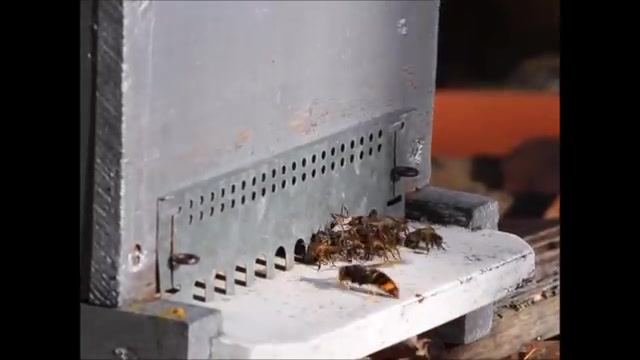bee: (306, 234, 353, 264), (343, 211, 404, 231), (357, 231, 398, 258), (403, 229, 443, 253)
hornet: (335, 265, 405, 304)
